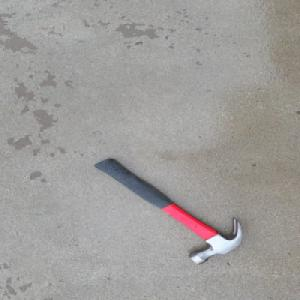Hammer: (92, 156, 244, 264)
